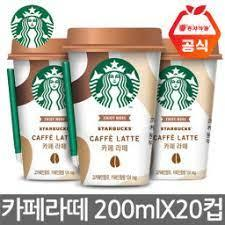starbucks_cafelatte: (63, 26, 159, 188), (6, 37, 78, 182), (158, 37, 218, 188)
